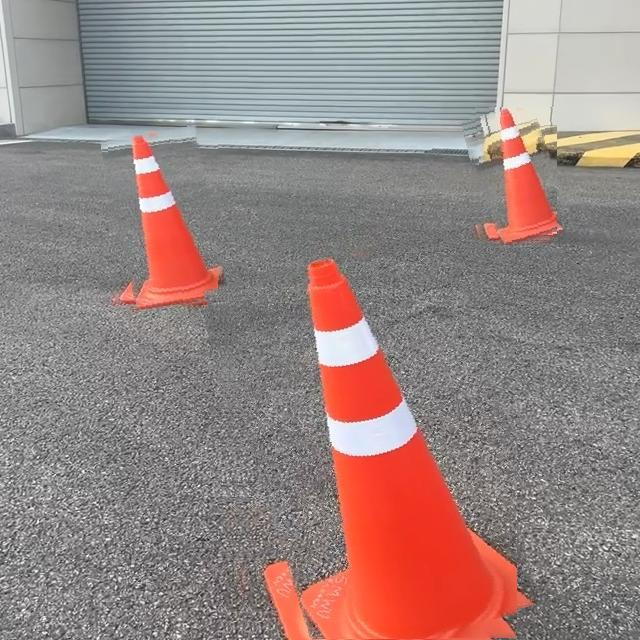fallen_object: (212, 230, 544, 640), (72, 106, 234, 327), (432, 93, 578, 247)
